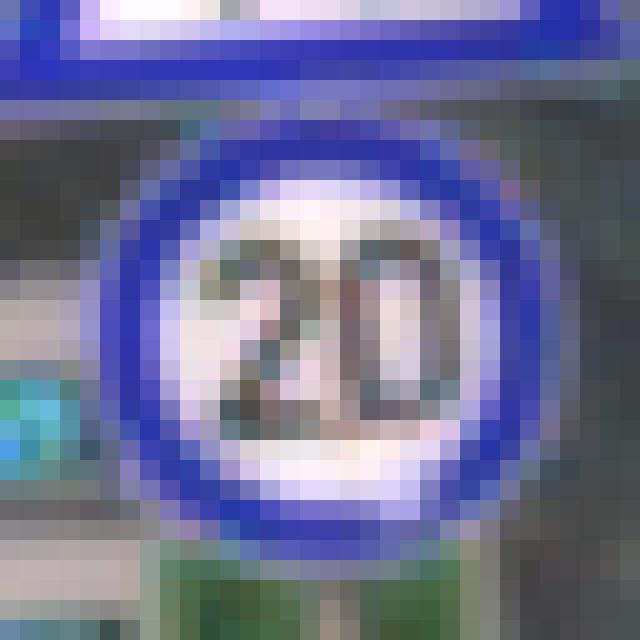SPEED LIMIT 20: (79, 126, 578, 554)
